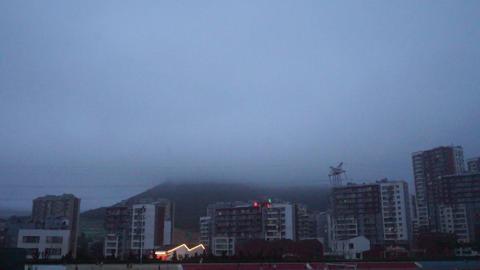UAV: (254, 199, 271, 212)
